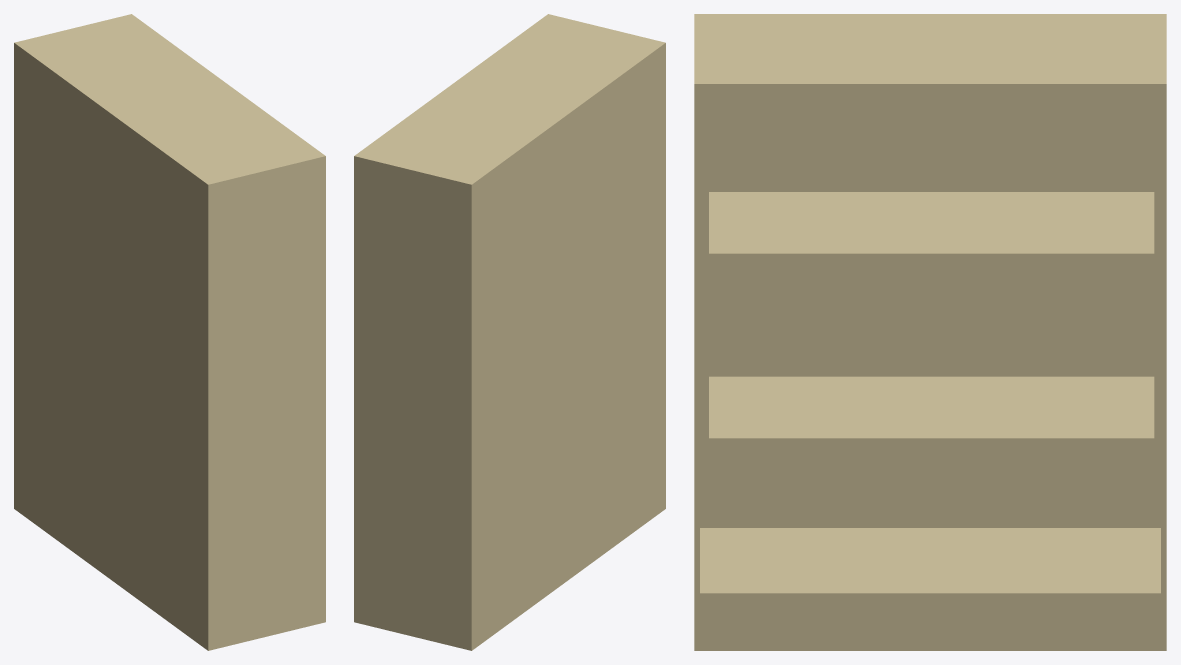
File: shelf_small.dae
The picture shows the model from 3 angles, left to right: view 1: azimuth 30°, elevation 25°; view 2: azimuth 150°, elevation 25°; view 3: azimuth 270°, elevation 25°; orthographic projection. The views are drawn at different scales.
Visible parts, largest first — view 1: IKEA_cupboard_BILLY_4; view 2: IKEA_cupboard_BILLY_4; view 3: IKEA_cupboard_BILLY_4.
Part boxes in pixels (x1=…): IKEA_cupboard_BILLY_4: x1=14, y1=14, x2=325, y2=650; IKEA_cupboard_BILLY_4: x1=354, y1=14, x2=665, y2=650; IKEA_cupboard_BILLY_4: x1=694, y1=14, x2=1166, y2=650.
Bounding box in the file's own units: 0.28 × 0.8 × 1.06.
